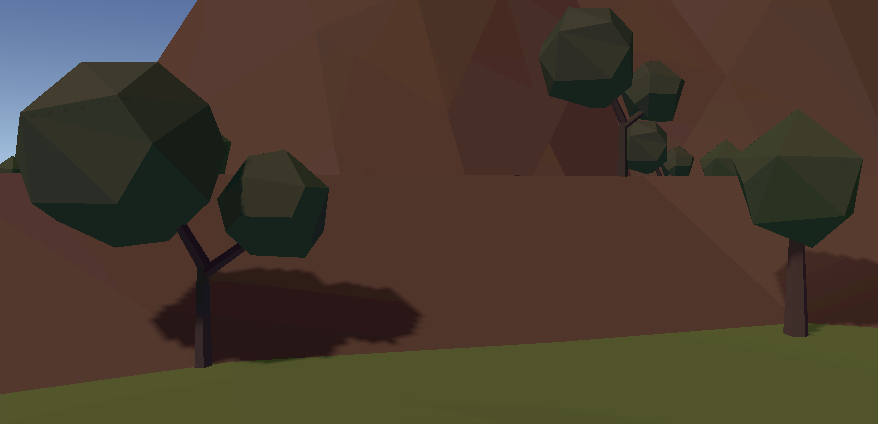tree: (16, 58, 331, 366), (733, 105, 865, 338), (538, 4, 686, 174), (617, 112, 699, 179), (700, 134, 751, 177)
